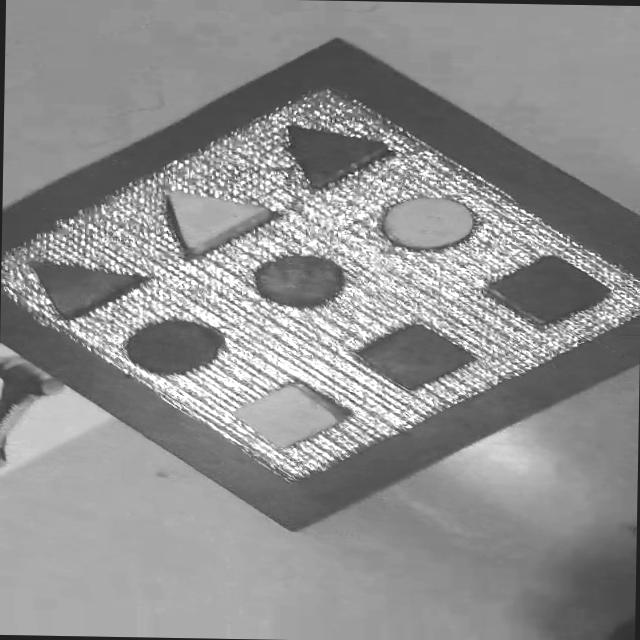bcircle: (107, 306, 242, 388)
bcube: (337, 316, 495, 395)
btriangle: (229, 103, 405, 199)
rcircle: (227, 240, 377, 319)
rcube: (471, 249, 614, 331)
rtriangle: (5, 235, 158, 321)
wb: (4, 88, 637, 481)
ycircle: (339, 177, 500, 263)
ycube: (215, 373, 360, 453)
ytriangle: (112, 171, 290, 262)
